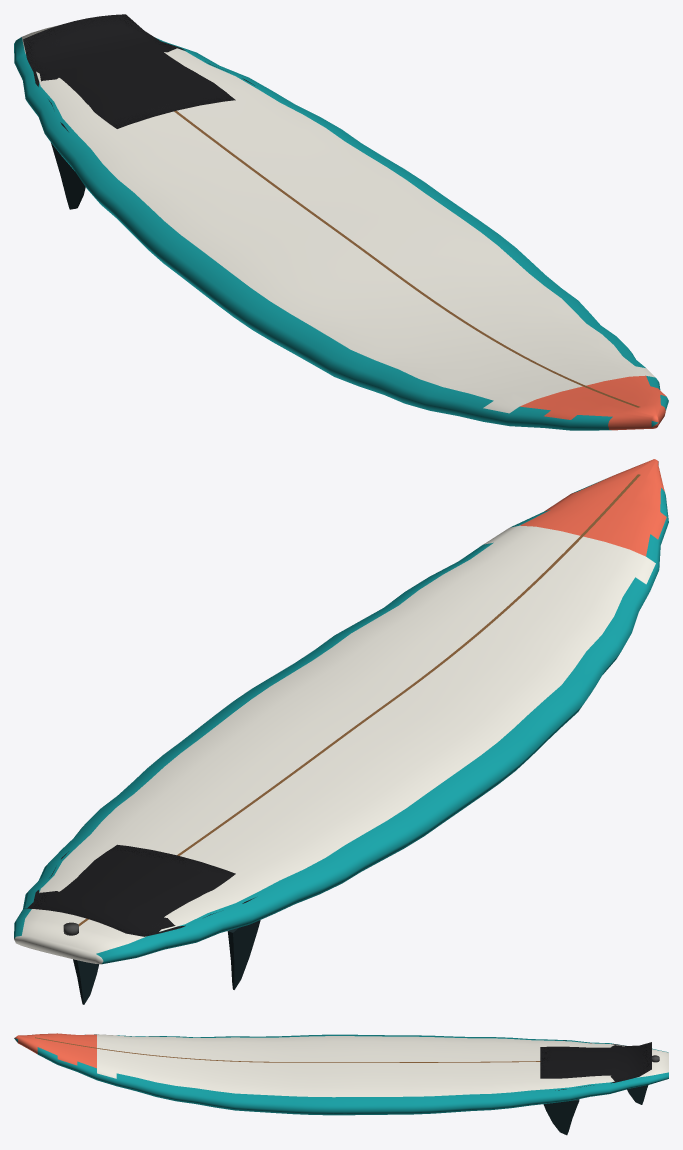
Rendered from board_local.glb.
3 views of the same model, one above another, from view 1: azimuth 30°, elevation 25°; view 2: azimuth 150°, elevation 25°; view 3: azimuth 270°, elevation 25° (orthographic). The views are drawn at different scales.
Parts seen in each view (by area): view 1: Board; view 2: Board; view 3: Board.
Boxes of the visible parts, left/top/right/bottom form: Board: left=14, top=14, right=668, bottom=430; Board: left=14, top=459, right=668, bottom=1004; Board: left=14, top=1033, right=668, bottom=1135.
Bounding box in the file's own units: 0.488 × 0.2397 × 1.83.
